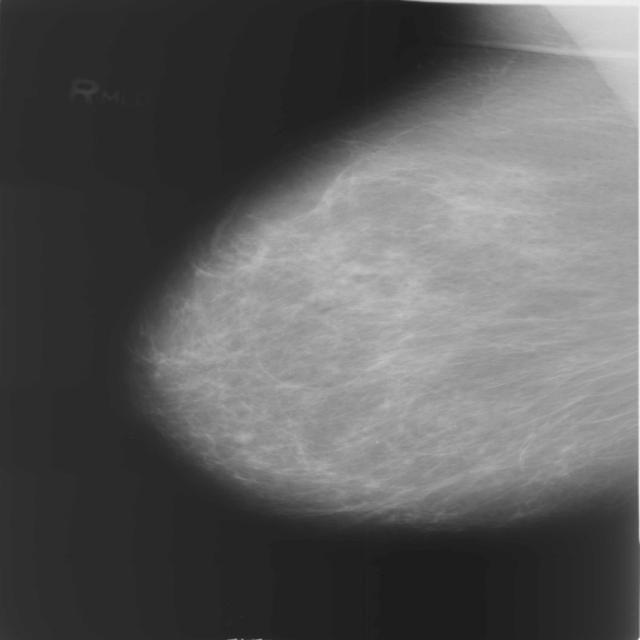tumour: (230, 429, 255, 444)
